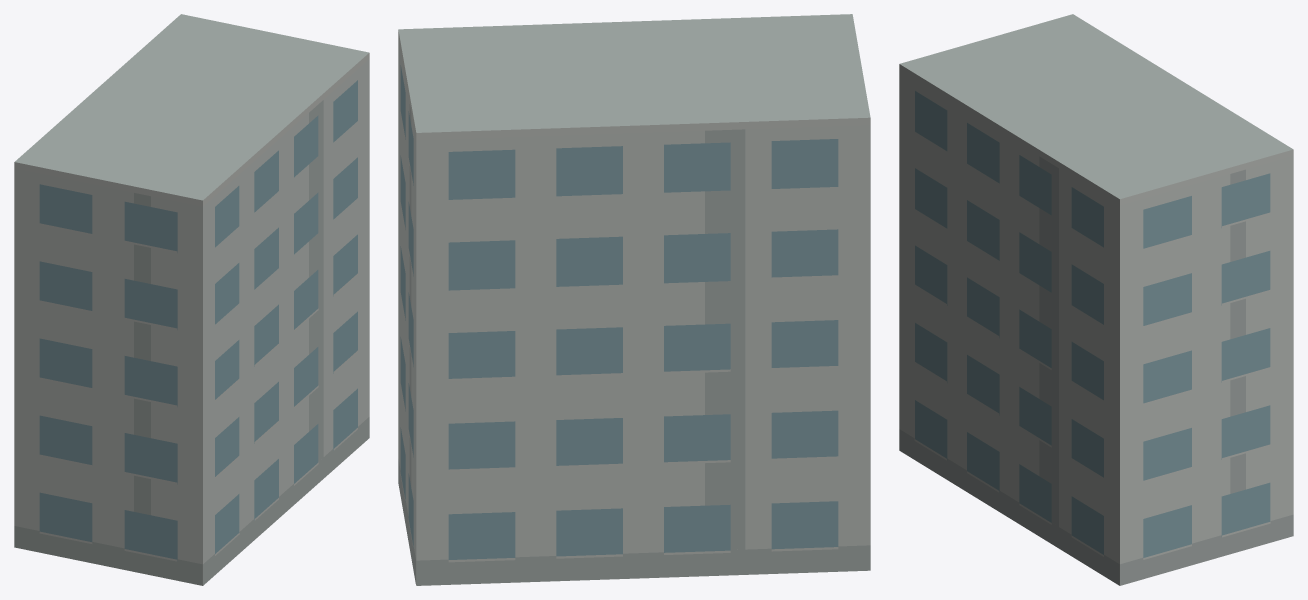
Rendered from survey-upis-32883374.glb.
3 views of the same model, side by side, from view 1: azimuth 30°, elevation 25°; view 2: azimuth 150°, elevation 25°; view 3: azimuth 270°, elevation 25° (orthographic). The views are drawn at different scales.
Visible parts, largest first — view 1: survey-upis-32883374.tmp; view 2: survey-upis-32883374.tmp; view 3: survey-upis-32883374.tmp.
Boxes of the visible parts, <box> form: survey-upis-32883374.tmp: <box>14,14,369,585</box>; survey-upis-32883374.tmp: <box>398,14,870,585</box>; survey-upis-32883374.tmp: <box>899,14,1293,585</box>.
Bounding box in the file's own units: 15.22 × 14.8 × 13.69.
